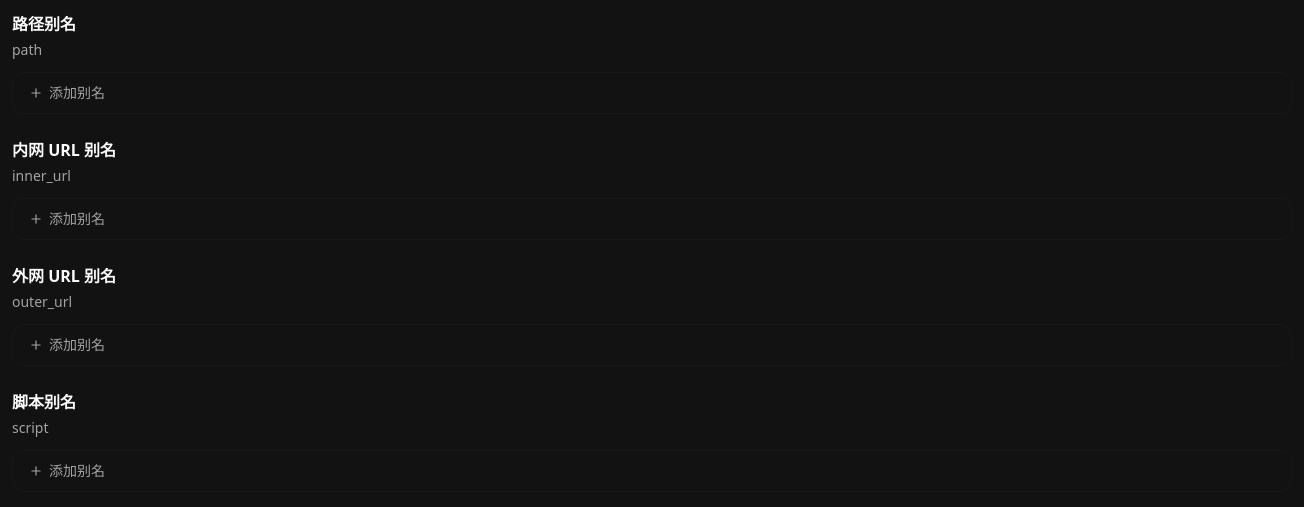
Test: AliasSettings › shows inline add form when add button is clicked
This screenshot has width=1304, height=507.
Expected: the heading "路径别名" is shown, [12, 12, 76, 36]
// 点击第一个“添加别名”按钮
Click the button "添加别名" below "path" at point(77, 92), box [13, 73, 1291, 113]
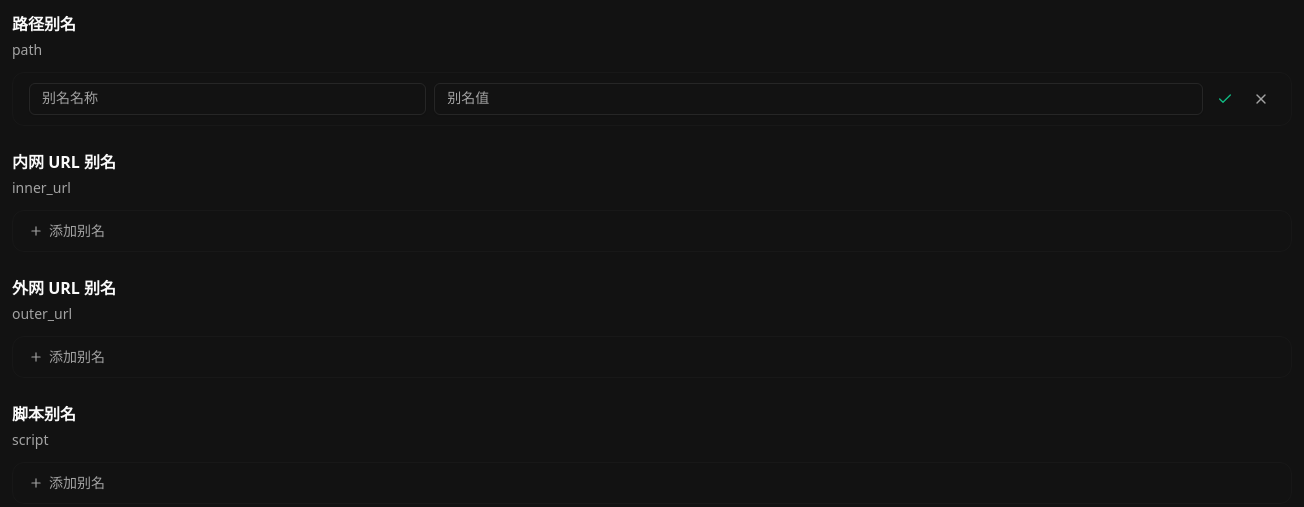
Result: the field with placeholder "别名名称" is shown at [29, 83, 426, 115]
Result: the field with placeholder "别名值" is shown at [434, 83, 1203, 115]
